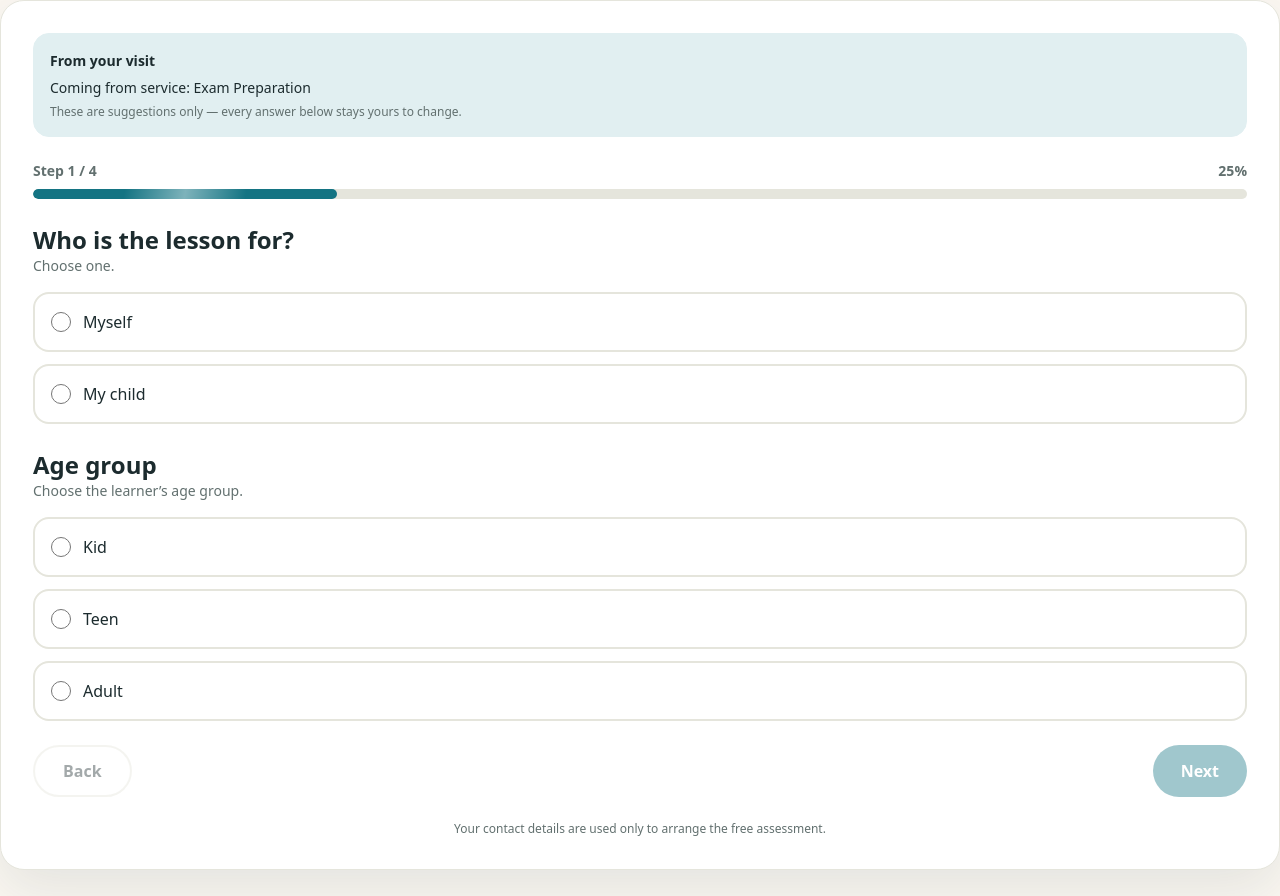
Scenario: AssessmentForm booking context › suggests the goal for a known service id while keeping it changeable
The image size is (1280, 896).
Expected: the list item "Coming from service: Exam Preparation" is shown, 50,78 -> 311,97
What coordinates should you click on to do the following:
click the radio button labelled "Myself"
I would click on:
 (61, 322)
Its box is 51,312 -> 71,332.
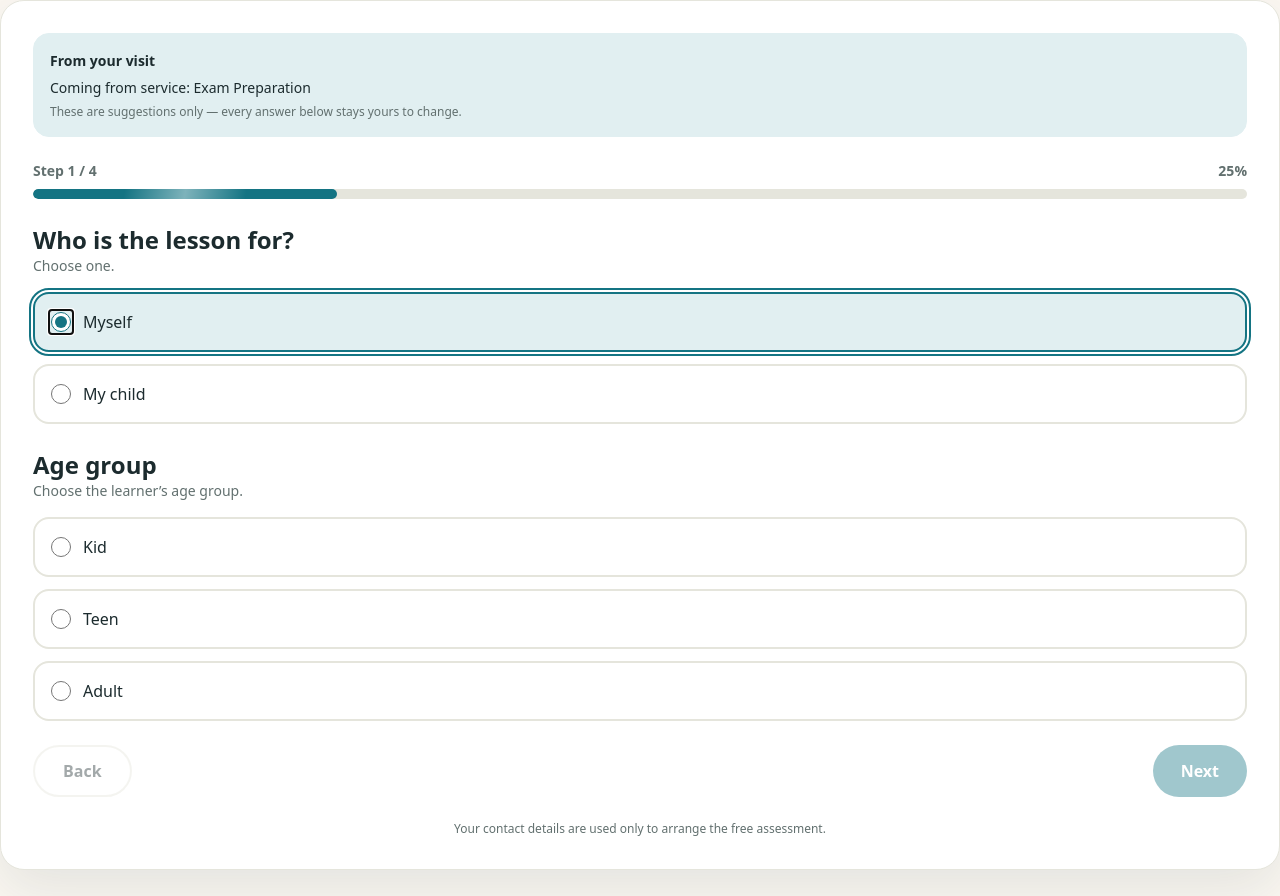
What coordinates should you click on to do the following:
click the radio button labelled "Kid"
I would click on:
 (61, 546)
Its box is 51,536 -> 71,556.
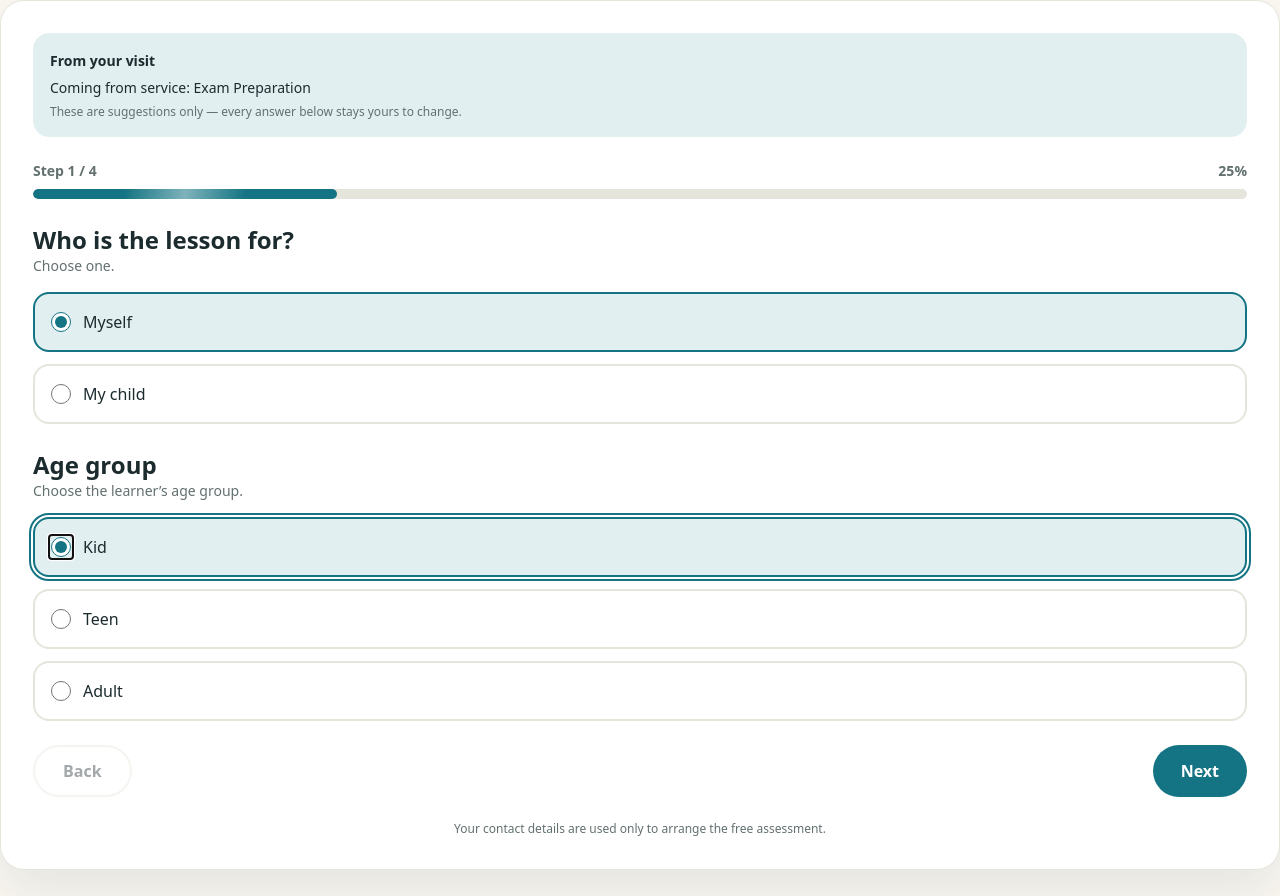
What coordinates should you click on to do the following:
click the button "Next"
I would click on:
 (1200, 770)
Its box is 1153,744 -> 1247,796.
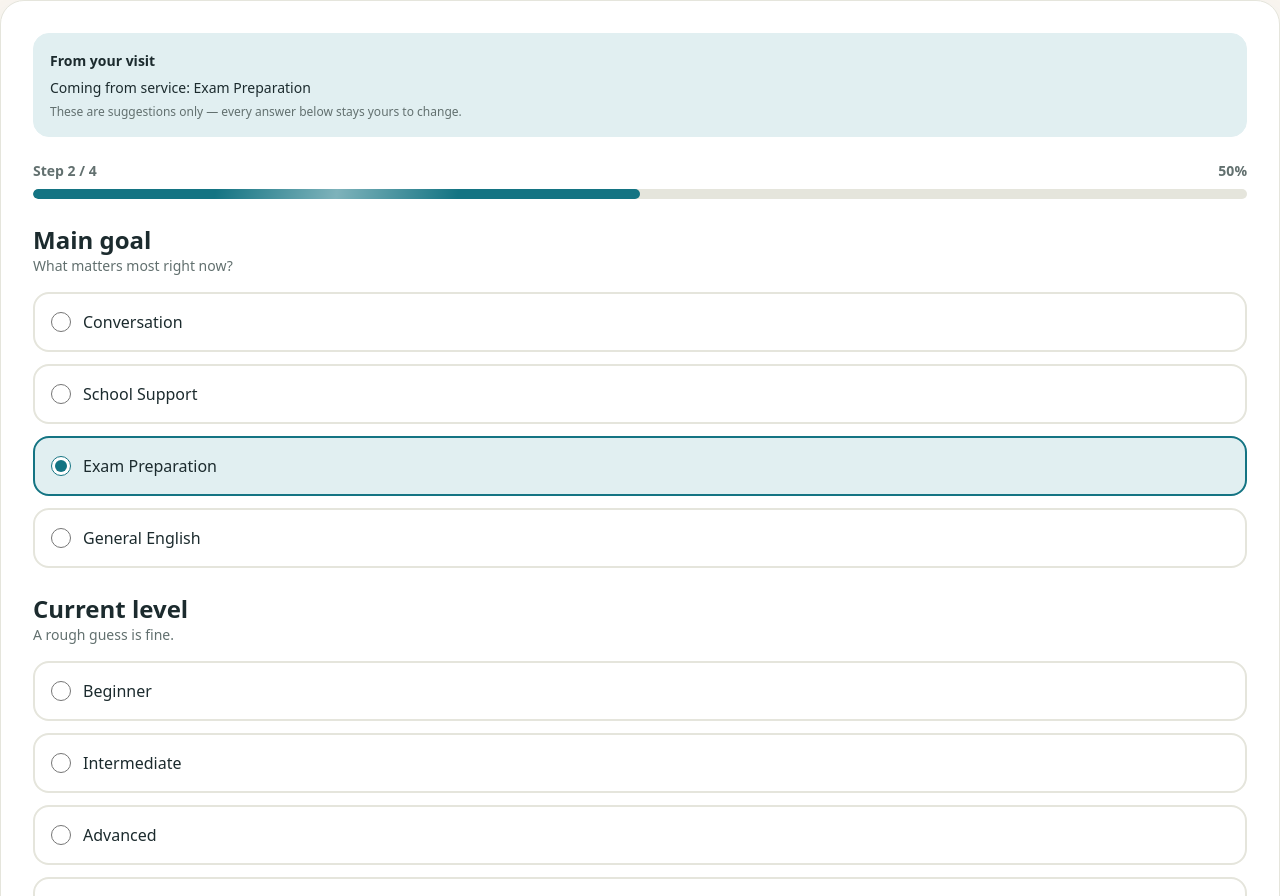
Expected: the radio button labelled "Exam Preparation" is checked, 51,456 -> 71,476
